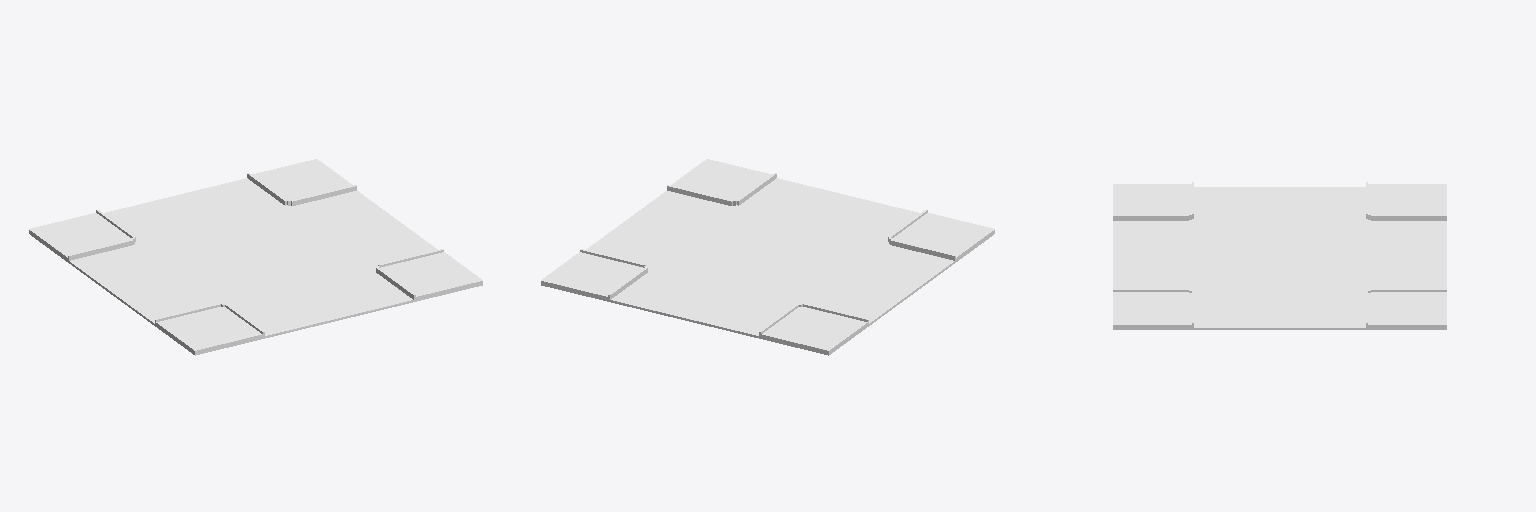
Rendered from GDS2_TileFix-0.obj.
The picture shows the model from 3 angles: view 1: azimuth 30°, elevation 25°; view 2: azimuth 150°, elevation 25°; view 3: azimuth 270°, elevation 25°; orthographic projection.
Parts seen in each view (by area): view 1: GDS2_TileFix-0; view 2: GDS2_TileFix-0; view 3: GDS2_TileFix-0.
Part boxes in pixels (left/top/right/bottom): GDS2_TileFix-0: left=29, top=159, right=482, bottom=355; GDS2_TileFix-0: left=541, top=159, right=994, bottom=355; GDS2_TileFix-0: left=1113, top=182, right=1446, bottom=329.
Bounding box in the file's own units: 12.8 × 0.3 × 12.8.